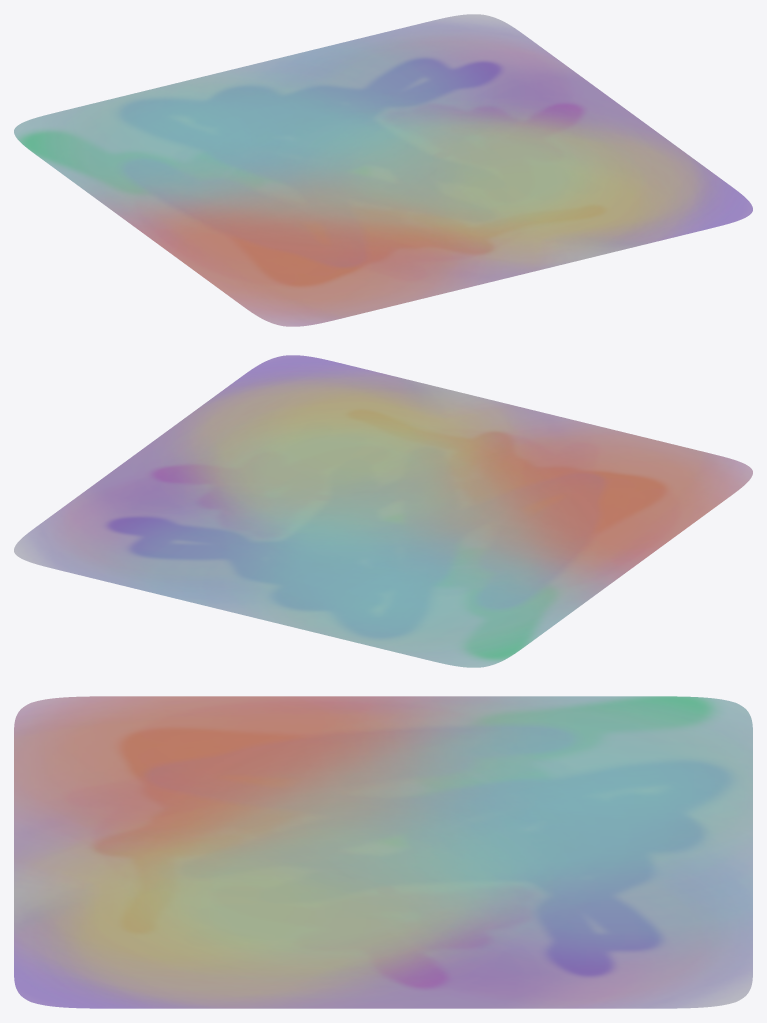
Rendered from ColoredPlane.glb.
3 renders of one model, top to bottom at view 1: azimuth 30°, elevation 25°; view 2: azimuth 150°, elevation 25°; view 3: azimuth 270°, elevation 25°, orthographic. The views are drawn at different scales.
Visible parts, largest first — view 1: Plane; view 2: Plane; view 3: Plane.
Part boxes in pixels (x1,y1,x2,y2): Plane: [14, 14, 752, 326]; Plane: [14, 355, 752, 667]; Plane: [14, 696, 752, 1008].
Size of the model in its own units: 68.59 by 0 by 68.59.
